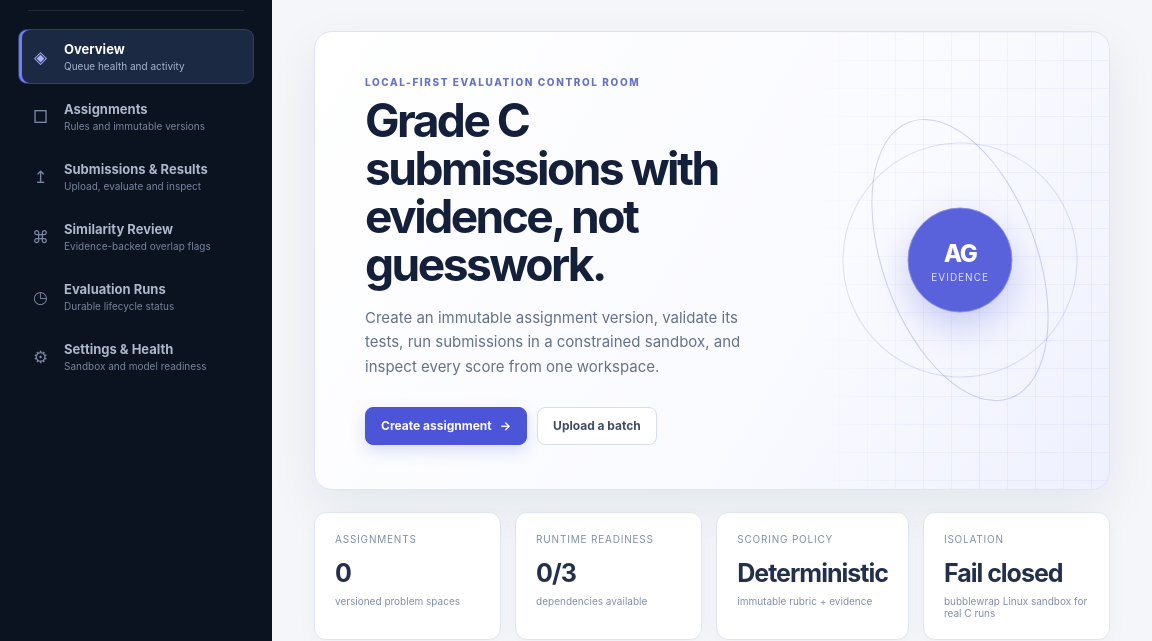
Test: AutoGrader dashboard shell › explains the first-run workflow and navigates through the dashboard
The width and height of the screenshot is (1152, 641).
Expected: the heading "Grade C submissions with evidence, not guesswork." is shown, [365,97,761,289]
Step 1. Click the button "□ Assignments Rules and immutable versions" → click(136, 116), box [18,89,254,144]
(page scrolled)
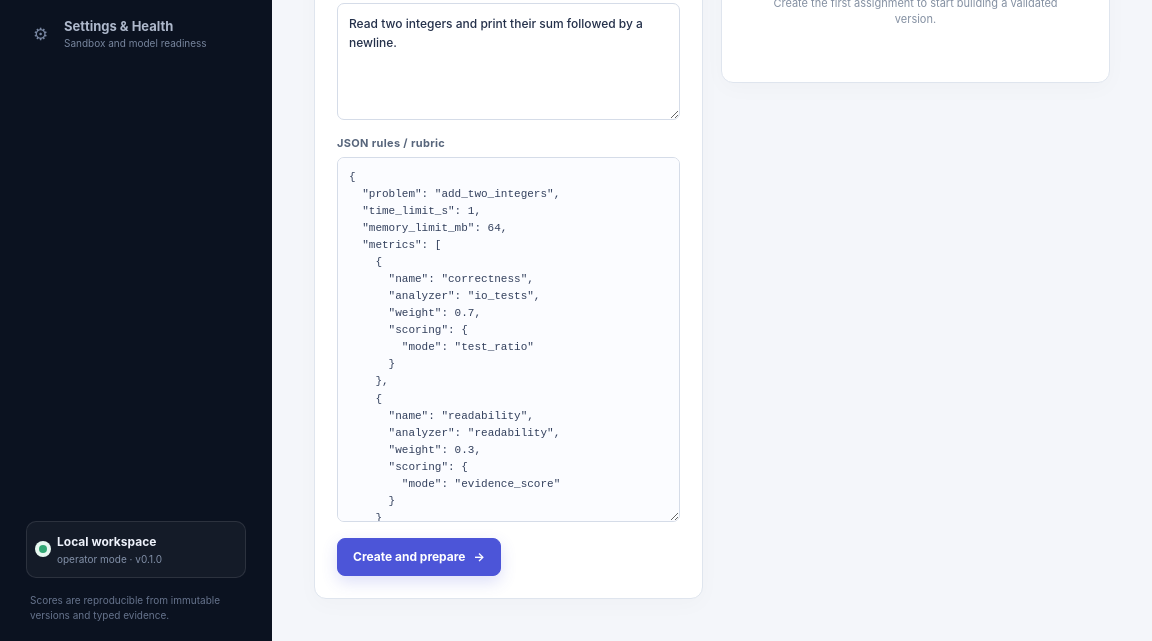
Result: the text box labelled "JSON rules / rubric" is shown at [337,157,680,522]
